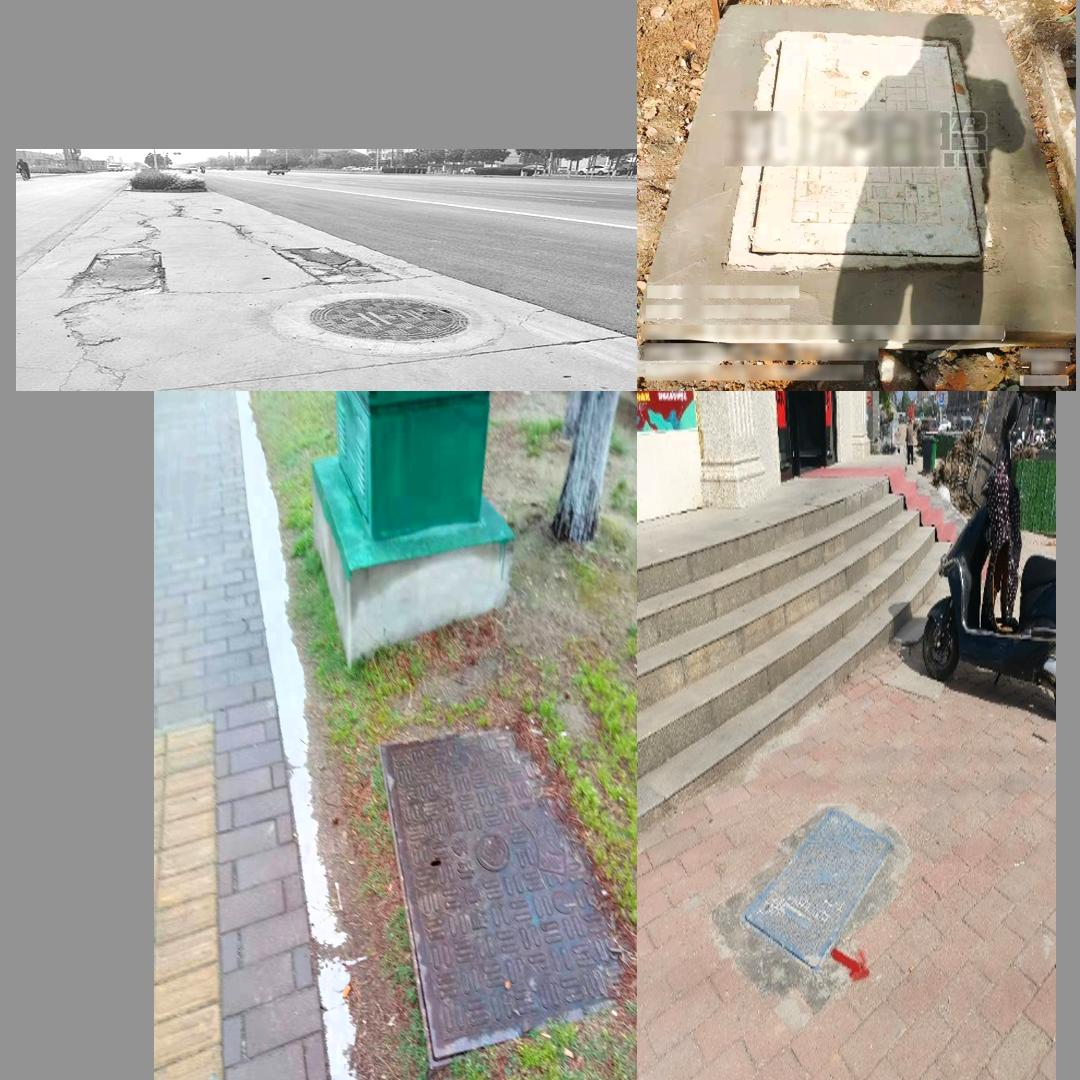good: (377, 729, 624, 1066), (728, 30, 993, 269), (739, 807, 891, 970), (272, 290, 512, 356)
